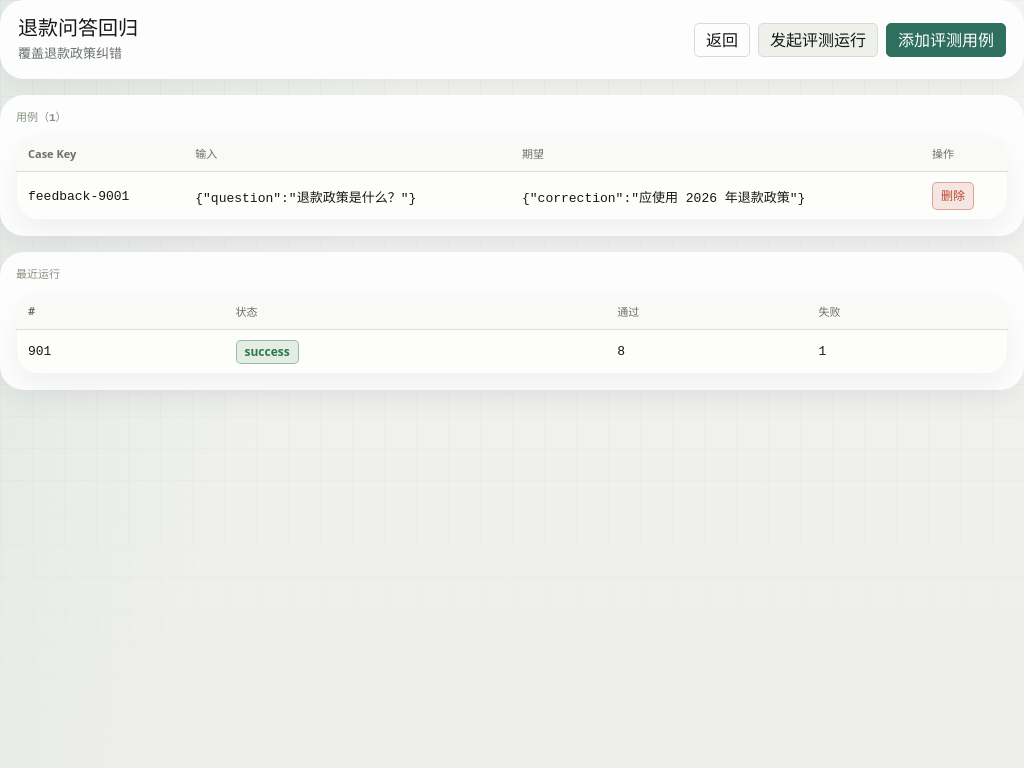
Test: EvalSuiteDetailPage › keeps the delete confirmation open on failure
What coordinates should you click on to do the following:
click the button with aria-label "删除用例 feedback-9001"
I would click on:
 (953, 196)
Its box is [932,182,974,210].
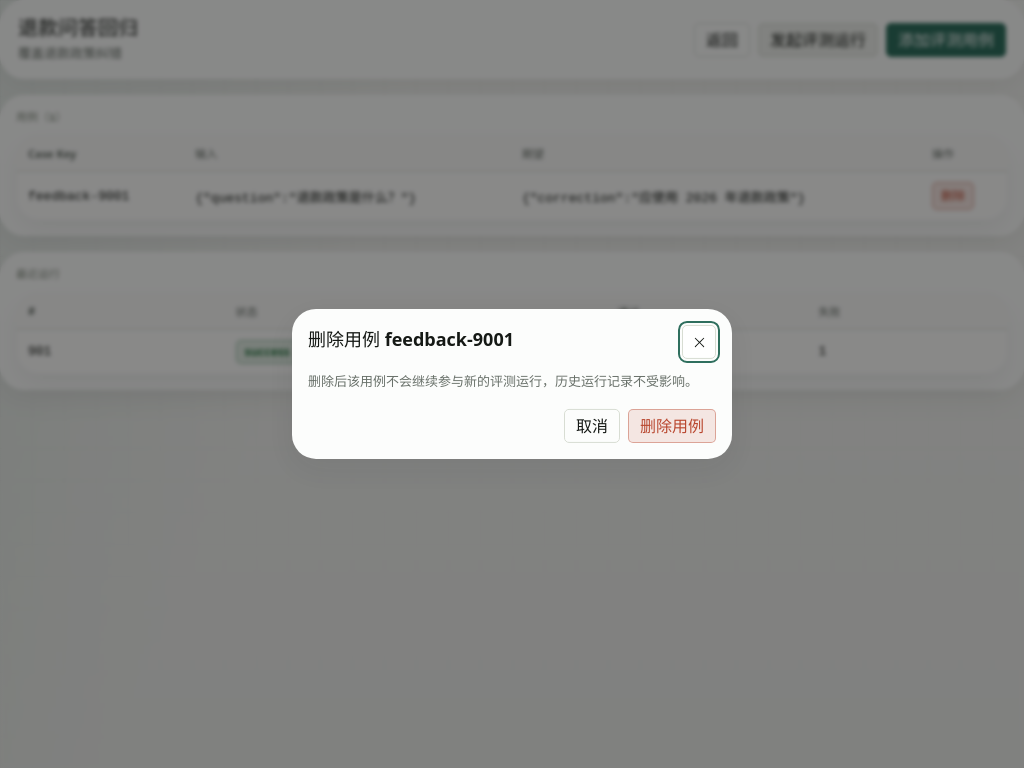
What coordinates should you click on to do the following:
click the button "删除用例"
I would click on:
 (672, 426)
Its box is [628,409,716,443].
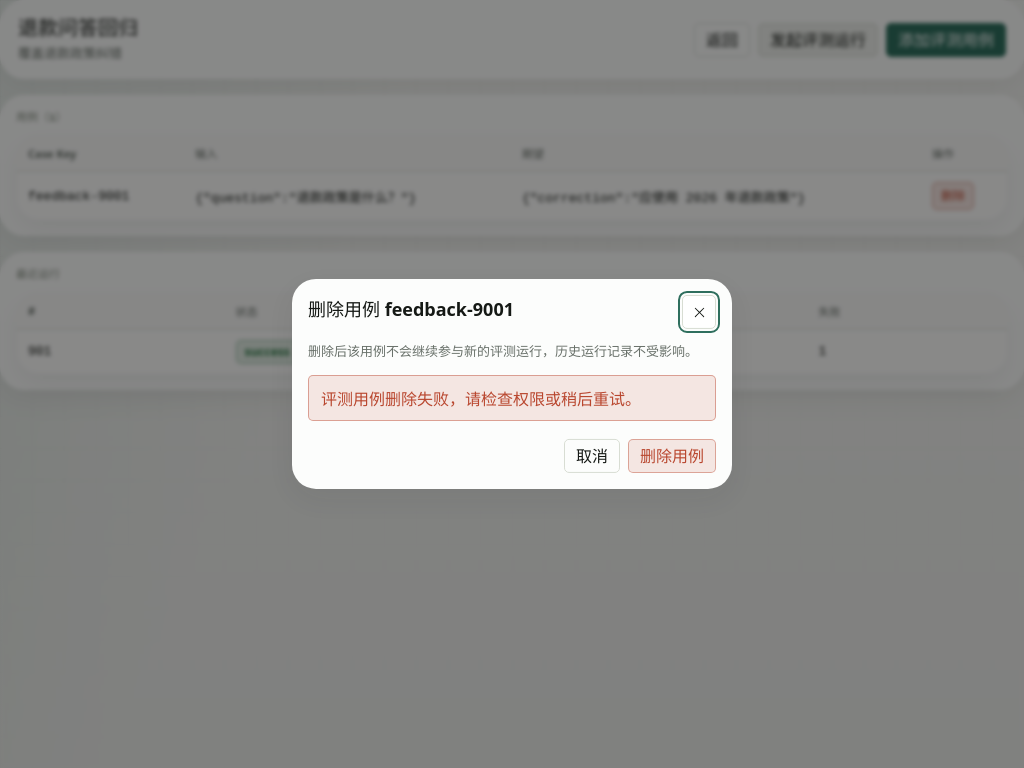
Check: the dialog "删除用例 feedback-9001" is shown, box [292,279,732,489]
Check: the text "评测用例删除失败，请检查权限或稍后重试。" is shown, box [308,375,716,421]
